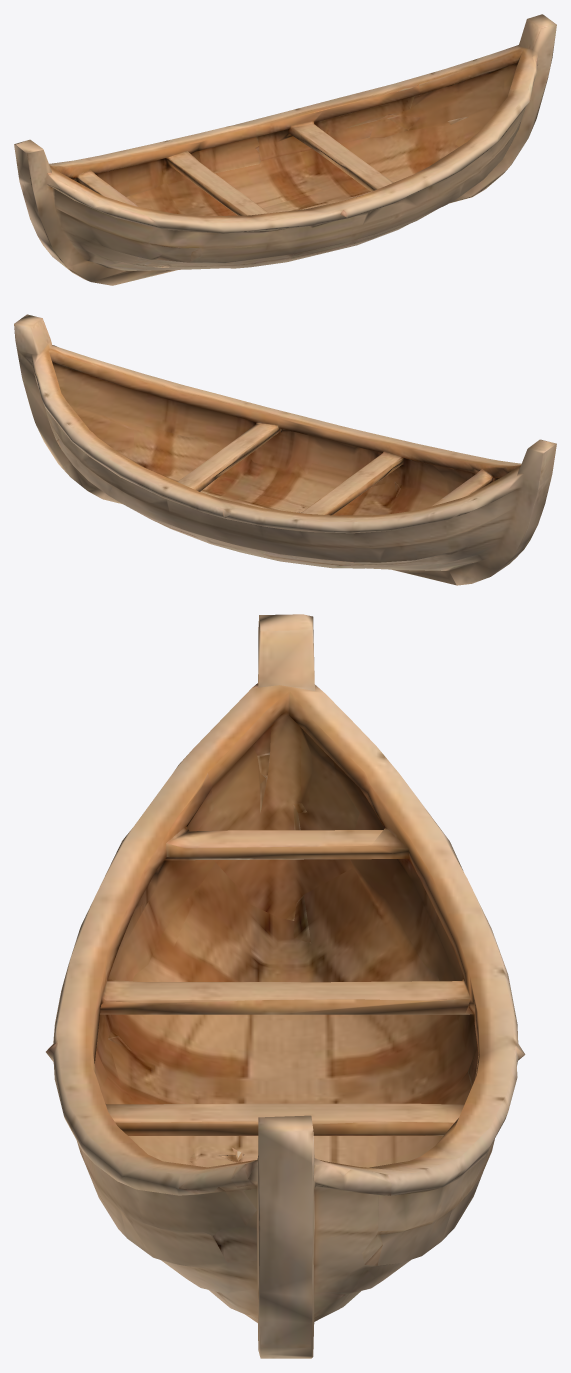
File: floss_holz.glb
3 views of the same model, one above another, from view 1: azimuth 30°, elevation 25°; view 2: azimuth 150°, elevation 25°; view 3: azimuth 270°, elevation 25° (orthographic). The views are drawn at different scales.
Size of the model in its own units: 1.91 by 0.532 by 0.7507.
Materials: 1 (1 with a texture image).
